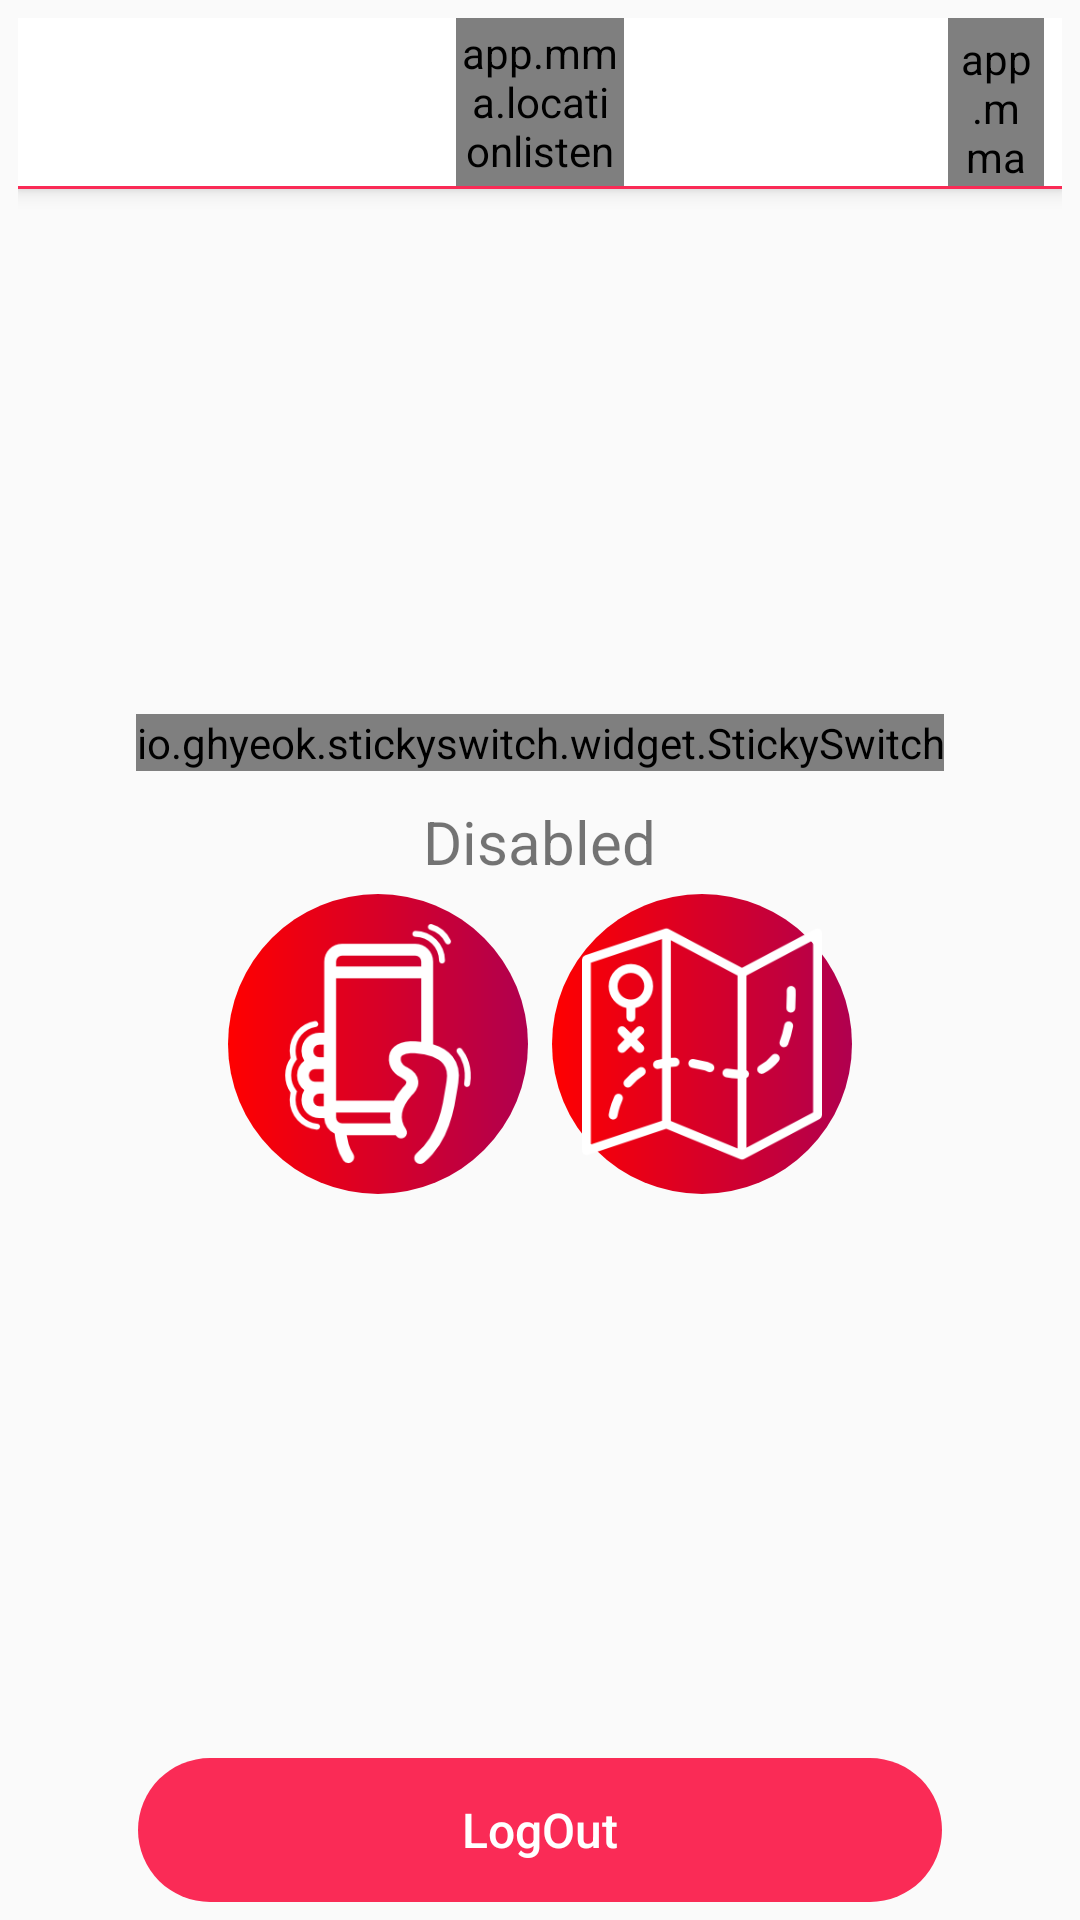

Screen size 1080*1920. Icon name, then its center in pixels as (x=x, y=y):
map: (x=702, y=1044)
shake: (x=378, y=1044)
